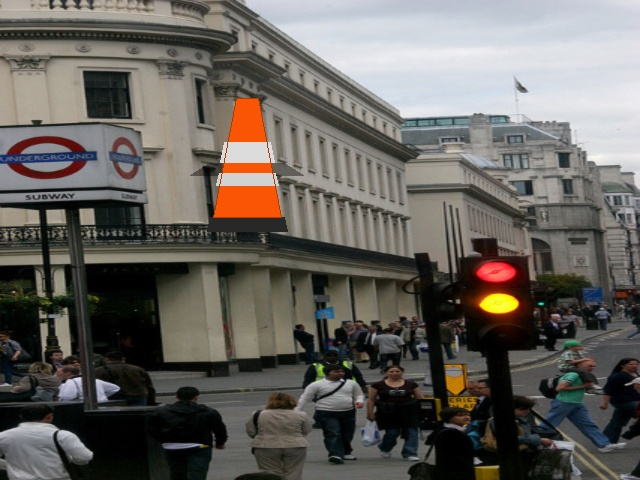traffic-cone: (207, 98, 287, 231)
